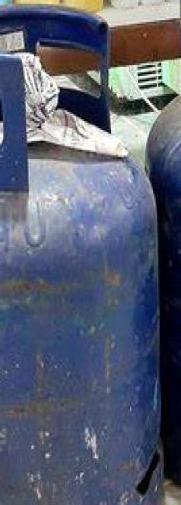cylinder: (1, 1, 181, 505)
